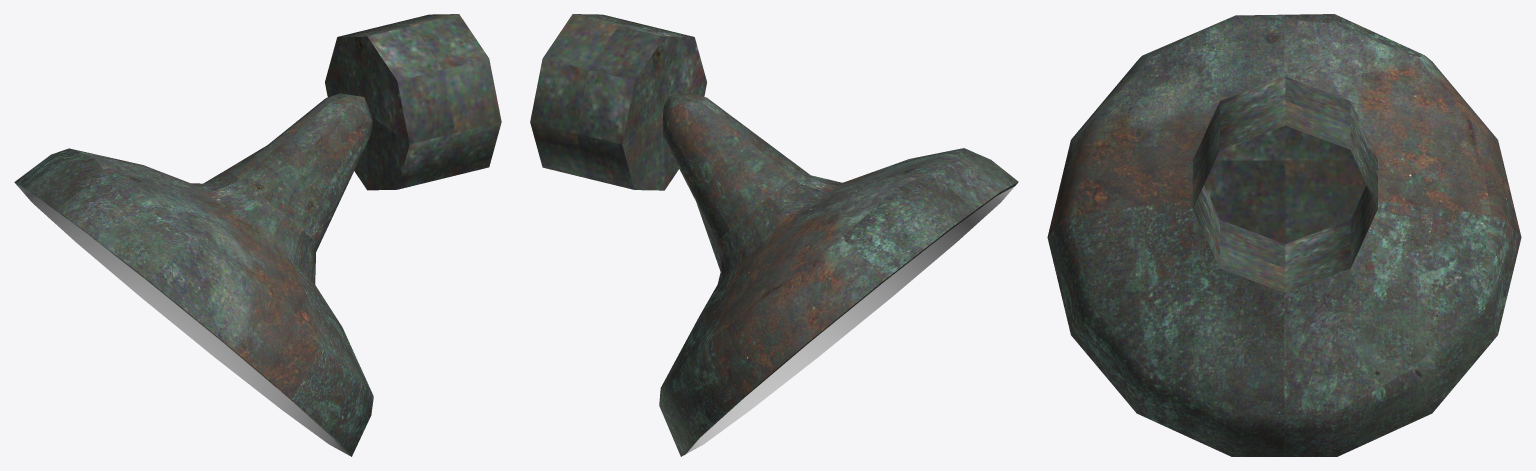
Rendered from lamp3.FBX.
3 views of the same model, side by side, from view 1: azimuth 30°, elevation 25°; view 2: azimuth 150°, elevation 25°; view 3: azimuth 270°, elevation 25° (orthographic). The views are drawn at different scales.
Parts seen in each view (by area): view 1: lamp3; view 2: lamp3; view 3: lamp3.
Part boxes in pixels (x1=…): lamp3: x1=14, y1=14, x2=501, y2=456; lamp3: x1=530, y1=14, x2=1018, y2=456; lamp3: x1=1047, y1=14, x2=1521, y2=456.
Bounding box in the file's own units: 0.2407 × 0.216 × 0.2255.
